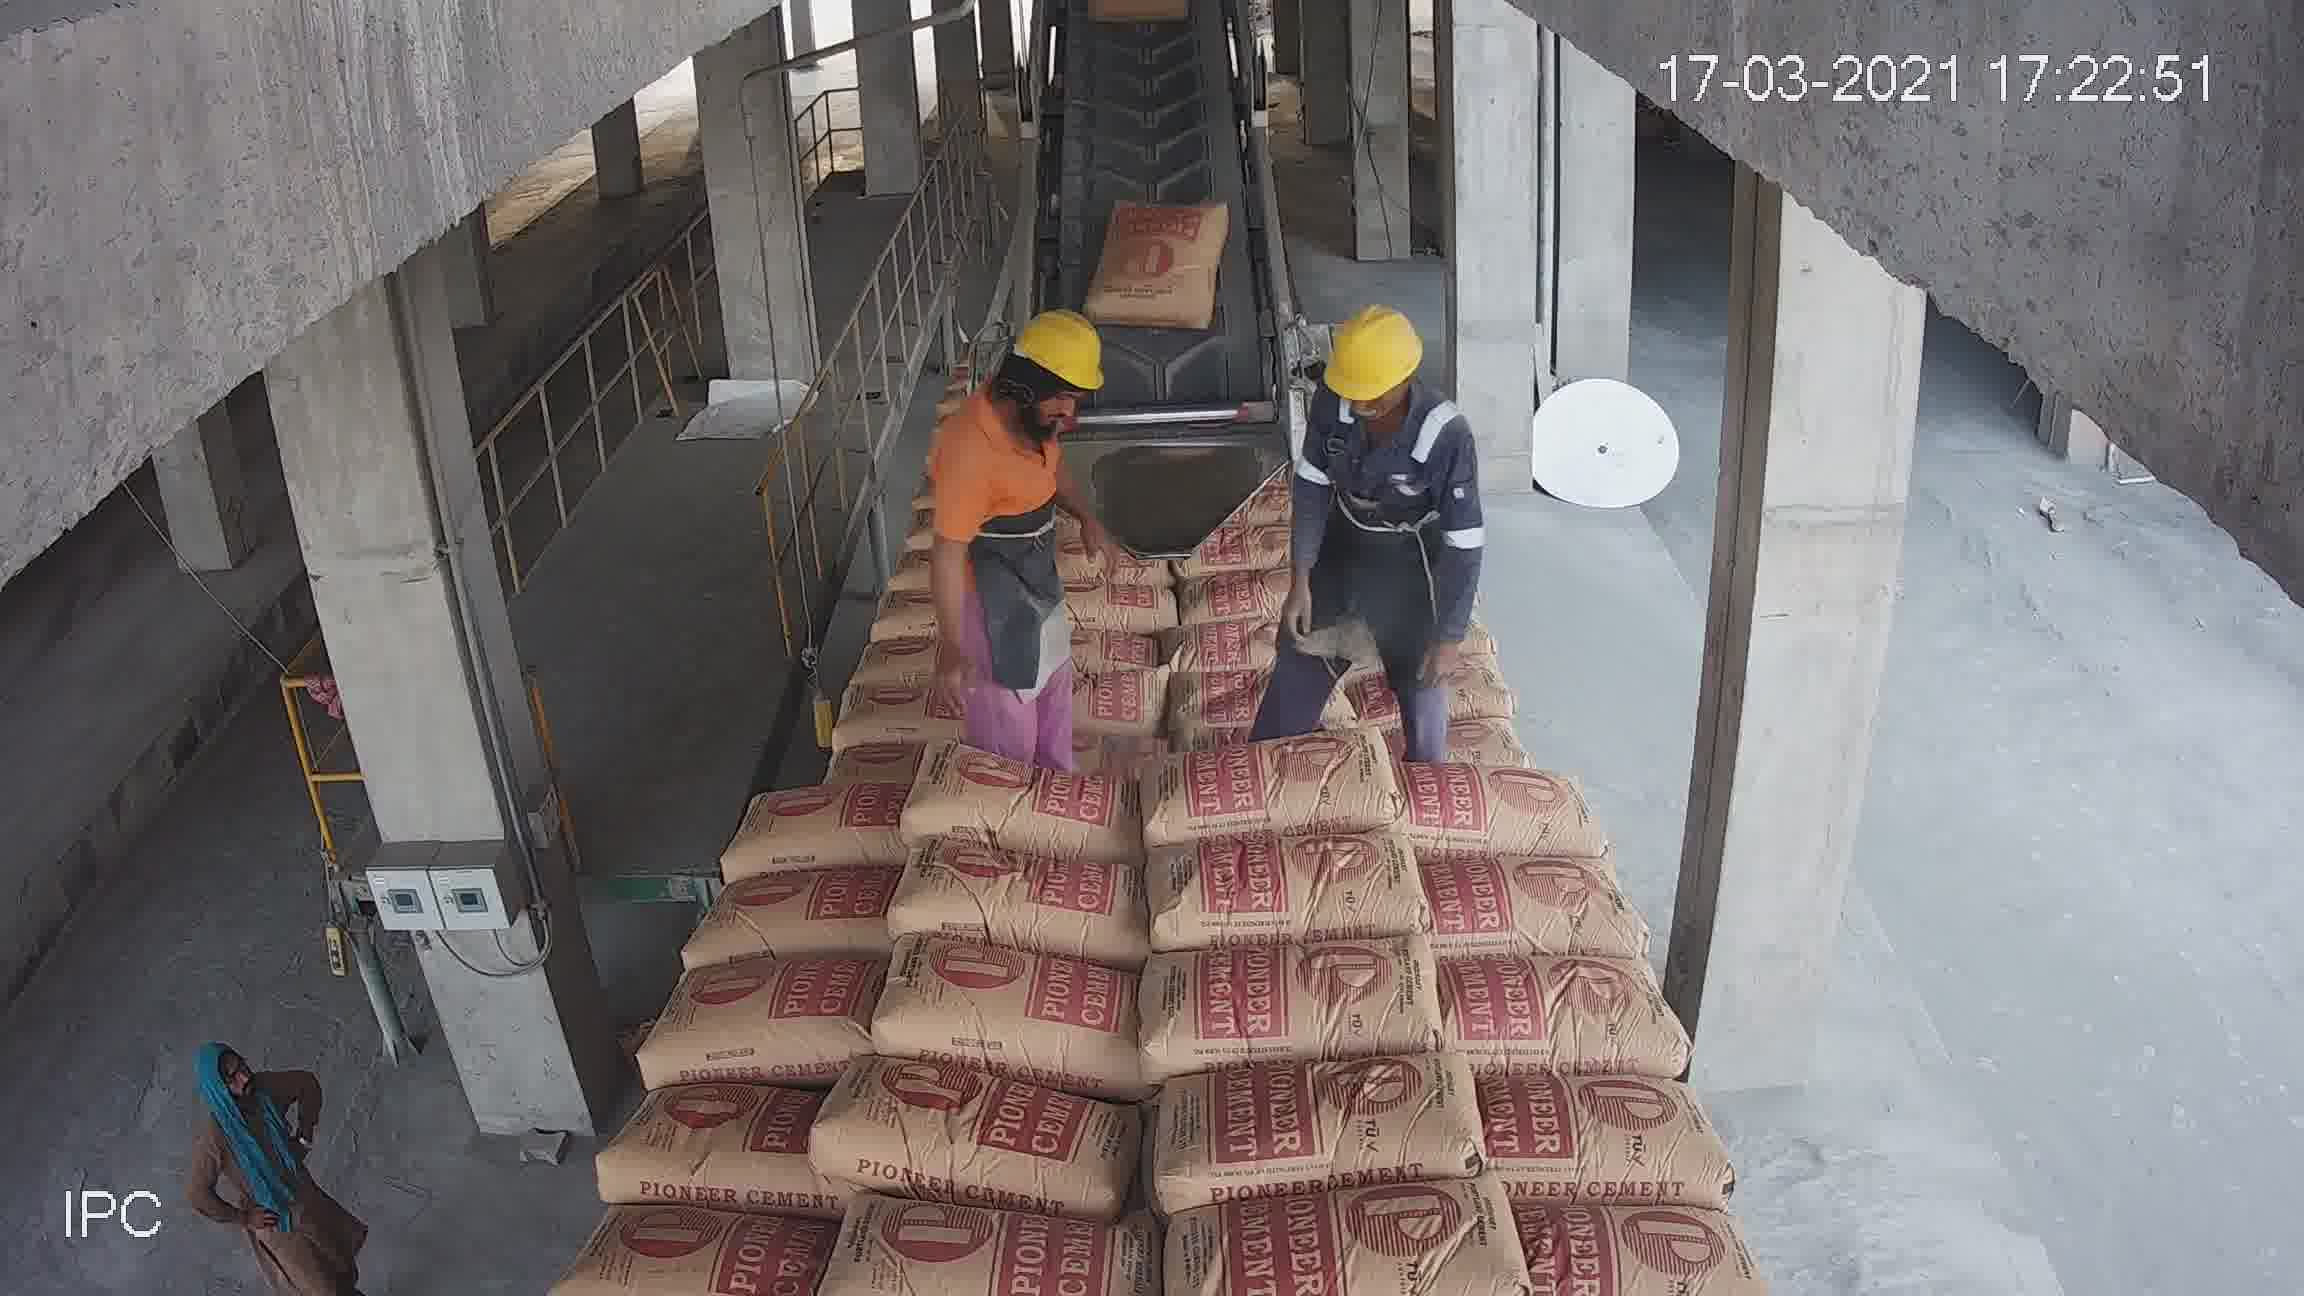bag: (1095, 347, 1225, 476), (1093, 49, 1212, 149)
bag_h: (1124, 1059, 1502, 1206), (771, 1090, 1147, 1215), (1146, 1177, 1525, 1296), (1155, 927, 1456, 1059), (627, 942, 885, 1078), (1160, 829, 1431, 956), (1472, 1076, 1715, 1206), (892, 962, 1171, 1067), (585, 1078, 836, 1193), (1154, 722, 1381, 840), (544, 1196, 853, 1283), (1432, 968, 1695, 1067), (813, 1218, 1130, 1296), (883, 869, 1147, 961), (1147, 657, 1388, 753), (679, 859, 907, 961), (1141, 589, 1380, 679), (1416, 850, 1628, 946), (733, 763, 896, 880), (1396, 766, 1589, 855), (945, 684, 1139, 766), (760, 704, 938, 791), (1514, 1222, 1756, 1285), (767, 623, 949, 707), (1367, 692, 1559, 769), (964, 616, 1166, 687), (1374, 601, 1521, 692), (900, 783, 1135, 839), (1361, 552, 1483, 616), (1356, 516, 1480, 576), (1331, 492, 1457, 544), (1052, 491, 1177, 536), (1332, 424, 1443, 475), (1334, 462, 1438, 513), (1062, 529, 1173, 568), (1074, 573, 1184, 612), (1329, 396, 1419, 437), (1324, 361, 1407, 399)
belt: (1038, 19, 1269, 400)
